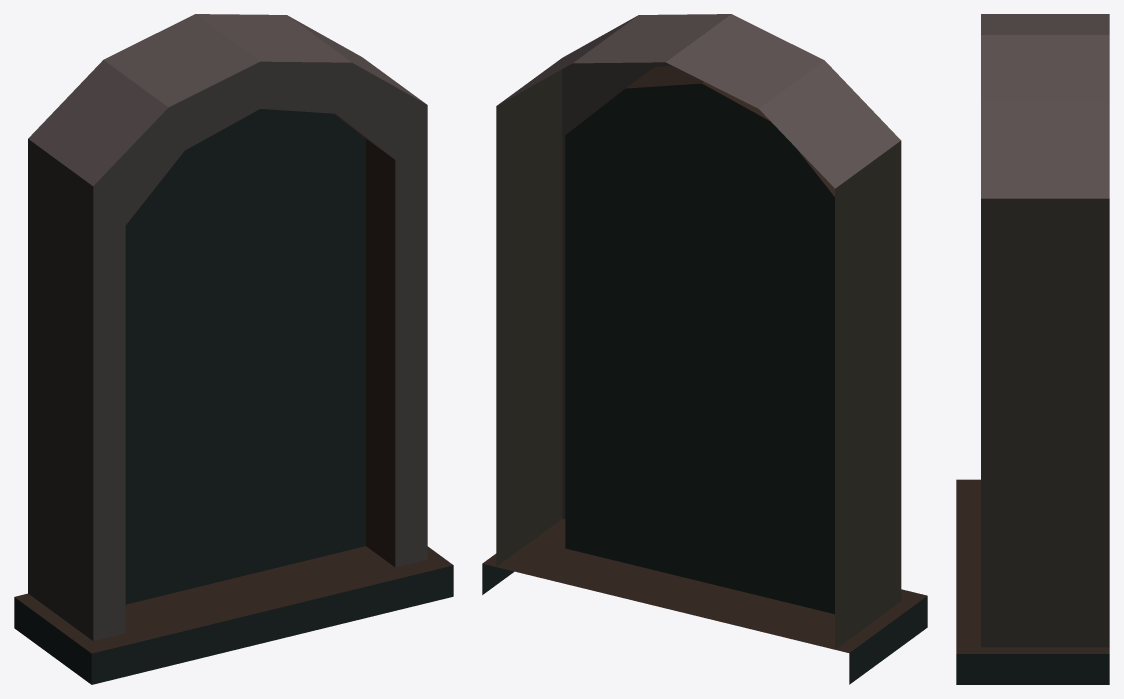
File: TB_CITY_BD_Door_Arch_C.FBX
3 views of the same model, side by side, from view 1: azimuth 30°, elevation 25°; view 2: azimuth 150°, elevation 25°; view 3: azimuth 270°, elevation 25° (orthographic). The views are drawn at different scales.
Parts seen in each view (by area): view 1: TB_CITY_BD_Door_Arch_C; view 2: TB_CITY_BD_Door_Arch_C; view 3: TB_CITY_BD_Door_Arch_C.
Part boxes in pixels (bbox=[...]): TB_CITY_BD_Door_Arch_C: bbox=[14, 14, 453, 684]; TB_CITY_BD_Door_Arch_C: bbox=[482, 14, 927, 684]; TB_CITY_BD_Door_Arch_C: bbox=[956, 14, 1109, 684].
Bounding box in the file's own units: 3.33 × 5.01 × 1.24.
